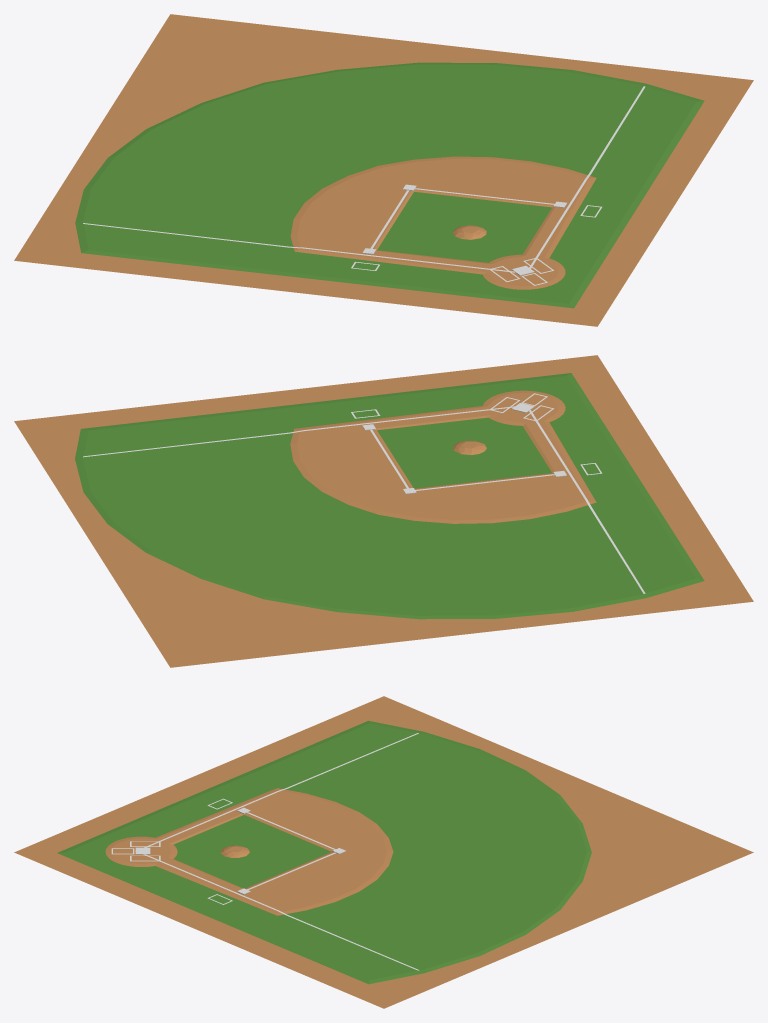
File: Baseball Field.fbx
3 views of the same model, one above another, from view 1: azimuth 30°, elevation 25°; view 2: azimuth 150°, elevation 25°; view 3: azimuth 270°, elevation 25° (orthographic). The views are drawn at different scales.
Visible parts, largest first — view 1: Field, White Lines; view 2: Field, White Lines; view 3: Field, White Lines.
Boxes of the visible parts, left/top/right/bottom form: Field: left=14, top=14, right=753, bottom=326; White Lines: left=83, top=86, right=645, bottom=285; Field: left=14, top=355, right=753, bottom=667; White Lines: left=83, top=393, right=645, bottom=593; Field: left=14, top=696, right=753, bottom=1008; White Lines: left=111, top=733, right=419, bottom=970.
Bounding box in the file's own units: 2960 × 15.95 × 2960.
